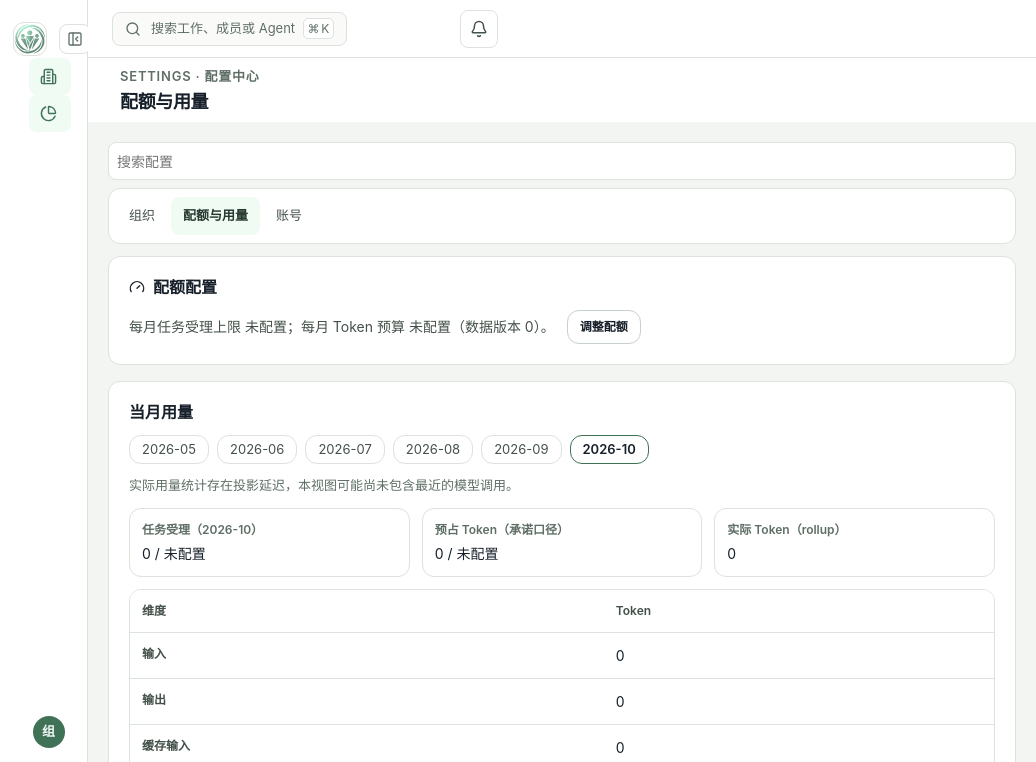
Test: QuotaSettingsPage › blocks a sub-1 limit before submitting and names the server 422 copy
This screenshot has width=1036, height=762.
Click the button "调整配额" at (604,327), box [567, 310, 641, 344]
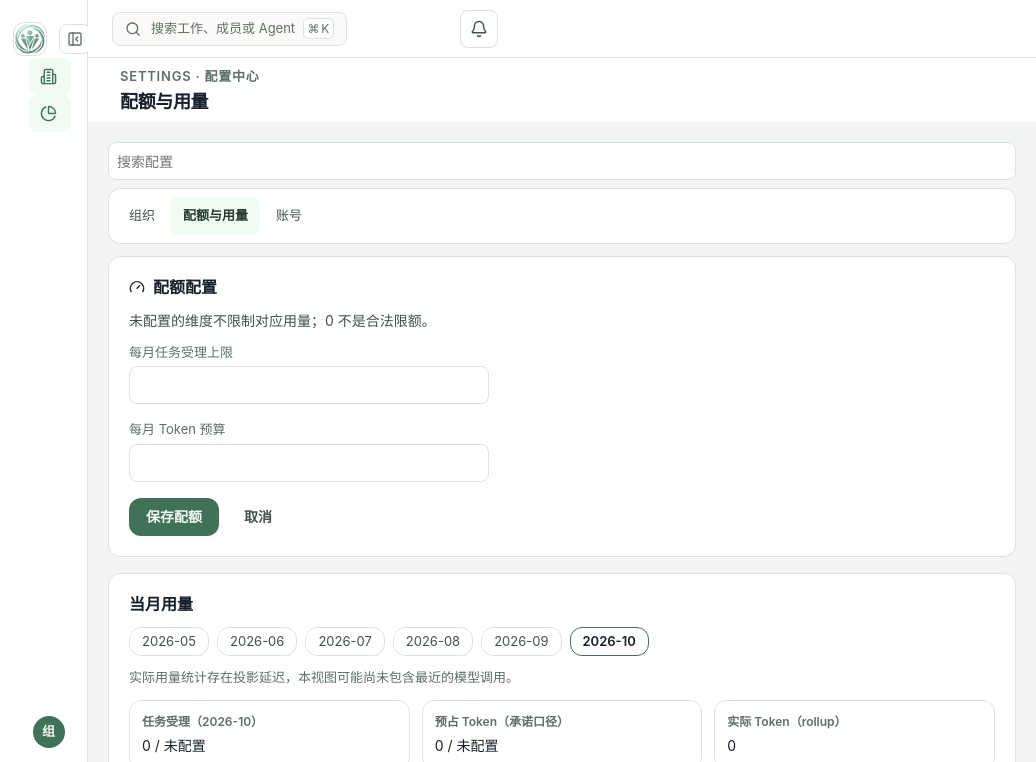
Type "0" into the number field labelled "每月任务受理上限" at (309,385), box [129, 366, 489, 404]
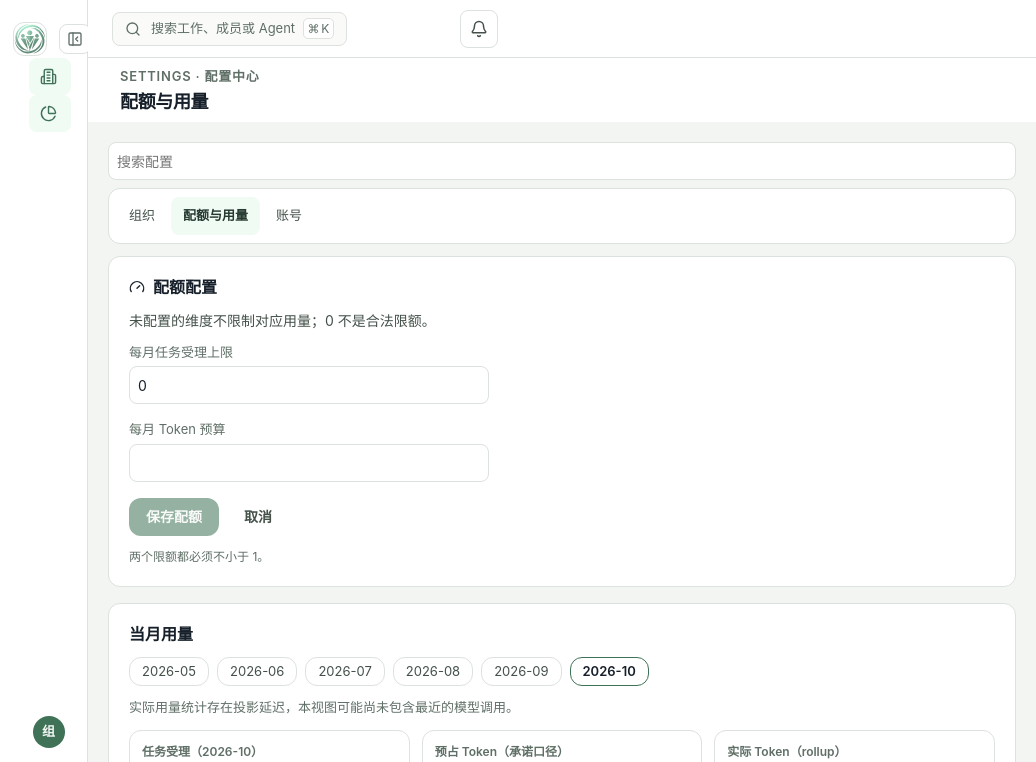
Check: the submit button is disabled, box [129, 498, 219, 536]
Submit the form, box [129, 344, 489, 564]
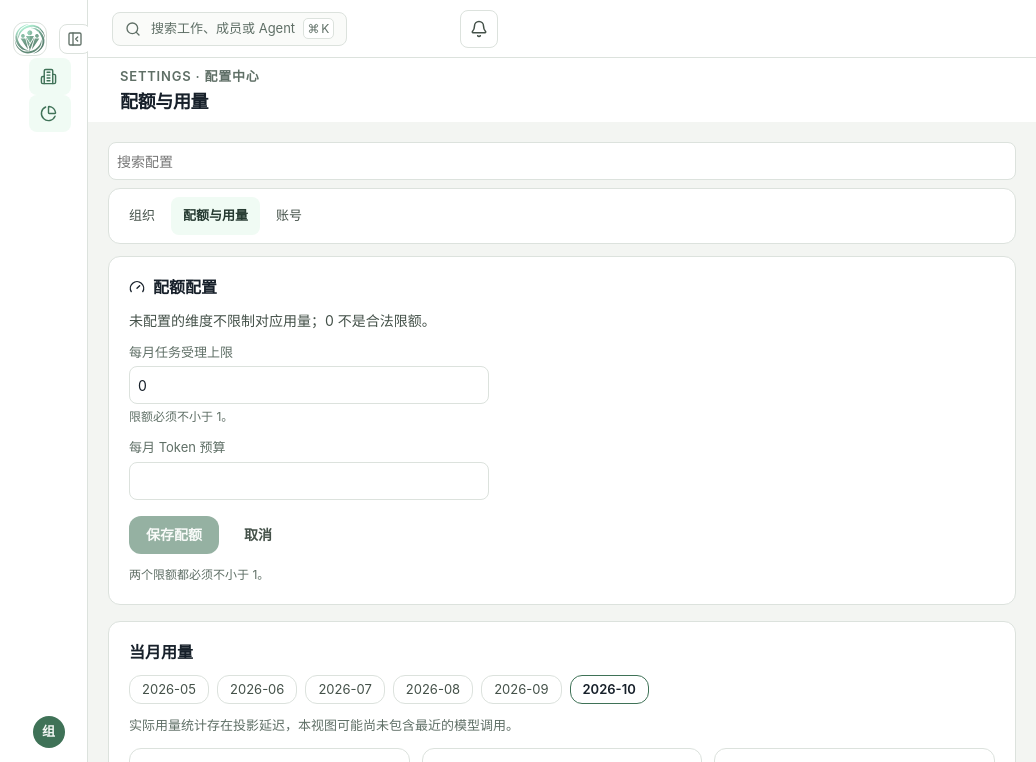
Replace the text in the number field labelled "每月任务受理上限" with "5" at (309,385), box [129, 366, 489, 404]
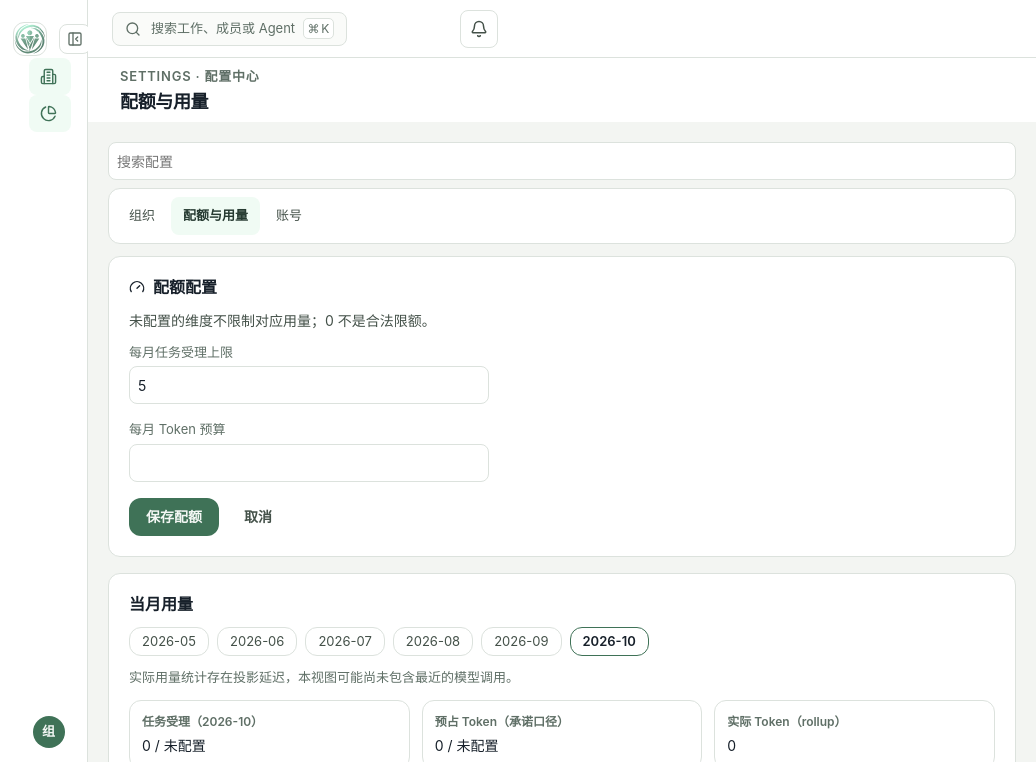
Submit the form, box [129, 344, 489, 536]
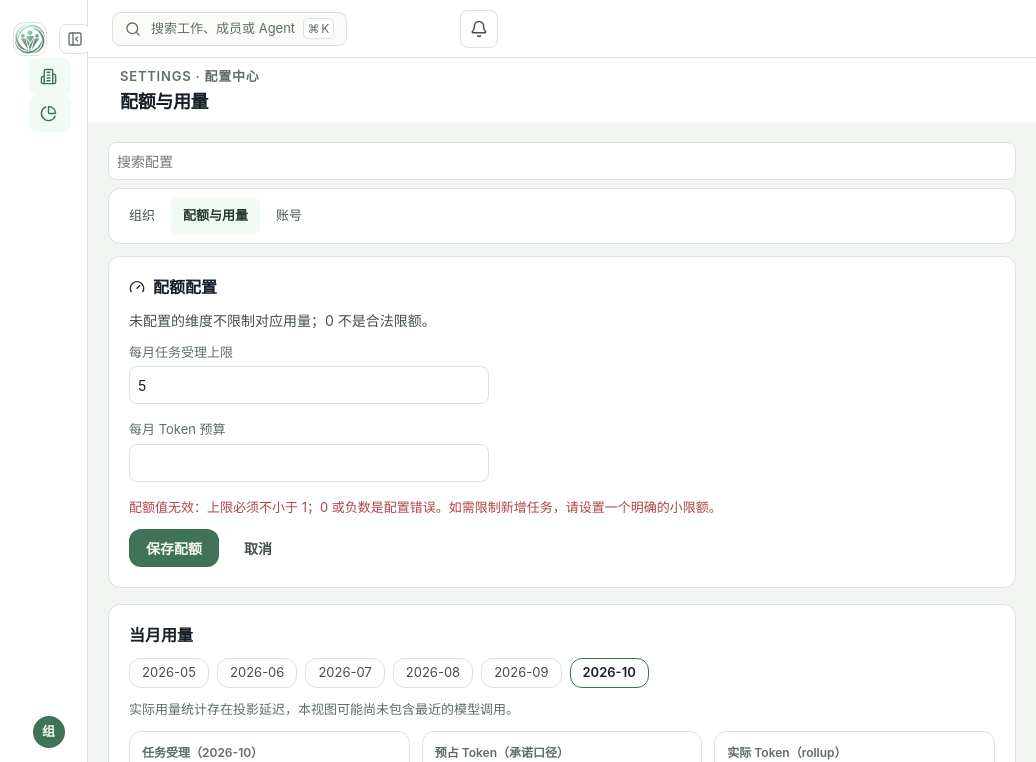
Check: the text "配额值无效" is shown, box [129, 499, 722, 515]
